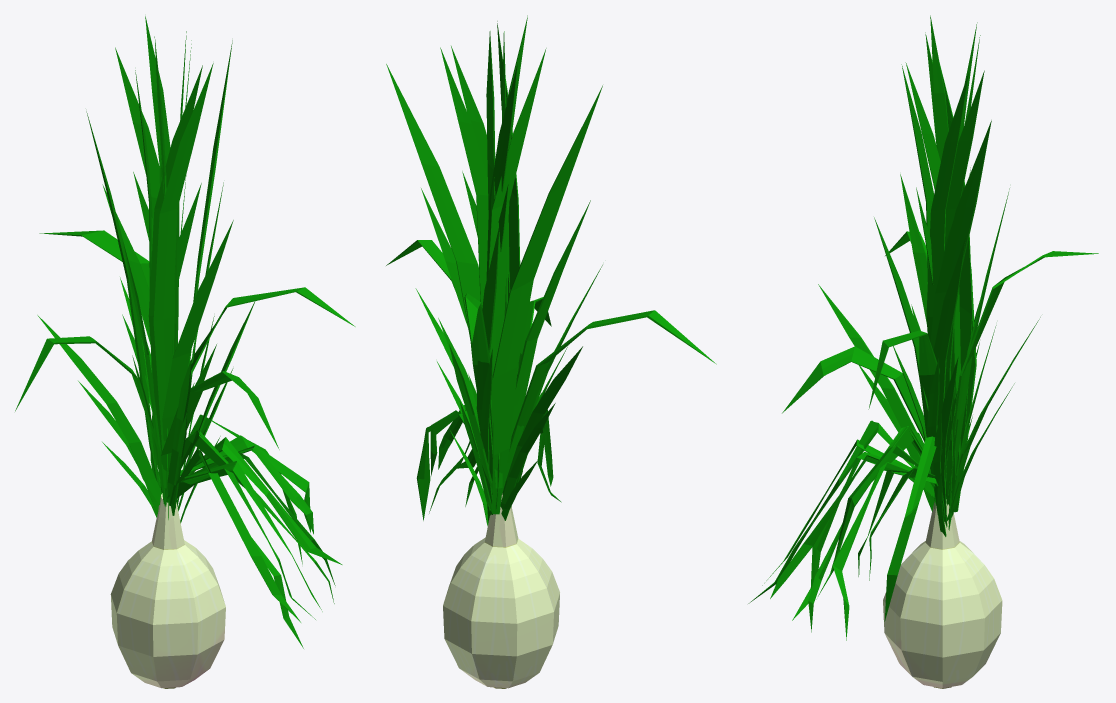
The model's file is Onion.fbx.
The picture shows the model from 3 angles, left to right: view 1: azimuth 30°, elevation 25°; view 2: azimuth 150°, elevation 25°; view 3: azimuth 270°, elevation 25°; orthographic projection.
Parts seen in each view (by area): view 1: AdultFlowerObion, AdultFruitOnion, AdultOnion, TeenOnion; view 2: AdultFlowerObion, AdultFruitOnion, AdultOnion, TeenOnion, BBOnion; view 3: AdultFlowerObion, AdultFruitOnion, AdultOnion, TeenOnion.
Boxes of the visible parts, <box> form: AdultFlowerObion: <box>15,16,355,688</box>; AdultFruitOnion: <box>18,291,347,688</box>; AdultOnion: <box>78,158,233,519</box>; TeenOnion: <box>122,314,216,506</box>; AdultFlowerObion: <box>386,15,716,688</box>; AdultFruitOnion: <box>386,241,663,688</box>; AdultOnion: <box>421,171,590,514</box>; TeenOnion: <box>438,318,569,522</box>; BBOnion: <box>450,430,537,525</box>; AdultFlowerObion: <box>789,15,1098,688</box>; AdultFruitOnion: <box>748,231,1002,688</box>; AdultOnion: <box>858,167,1014,523</box>; TeenOnion: <box>893,304,996,530</box>.
Size of the model in its own units: 157 by 296 by 144.
